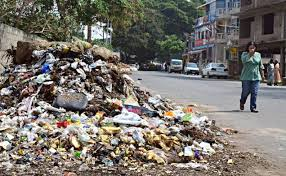garbage: (3, 41, 116, 176), (4, 97, 209, 167), (32, 64, 138, 176)
